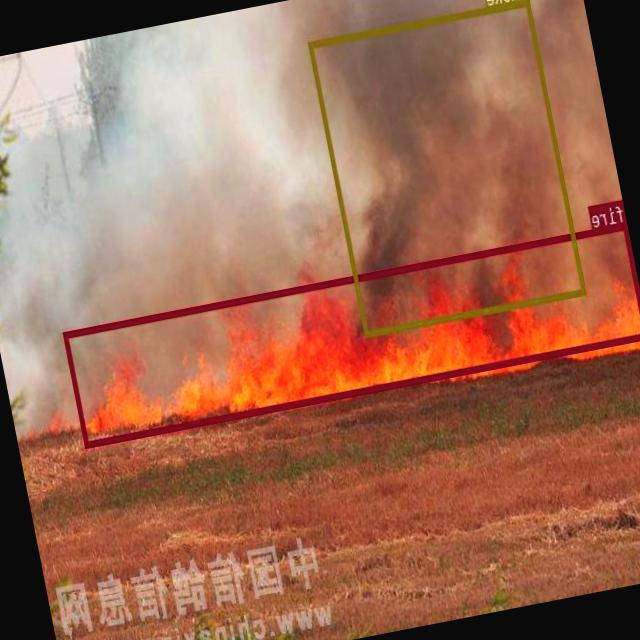fire: (63, 222, 640, 447)
smoke: (308, 0, 587, 336)
